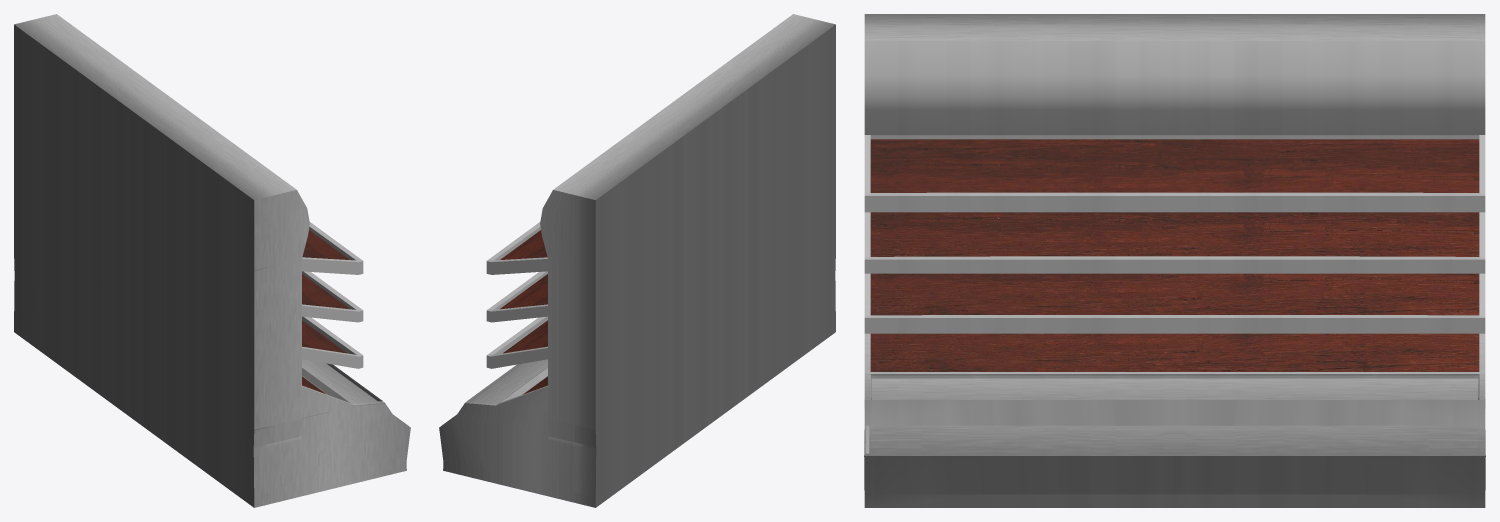
File: Vetetable_Stand.fbx
3 views of the same model, side by side, from view 1: azimuth 30°, elevation 25°; view 2: azimuth 150°, elevation 25°; view 3: azimuth 270°, elevation 25° (orthographic). The views are drawn at different scales.
Visible parts, largest first — view 1: pPlane33; view 2: pPlane33; view 3: pPlane33.
Boxes of the visible parts, x1,y1,x2,y2 form: pPlane33: (14, 14, 410, 507); pPlane33: (439, 14, 835, 507); pPlane33: (864, 14, 1485, 507).
Bounding box in the file's own units: 2.65 × 4.98 × 7.06.
